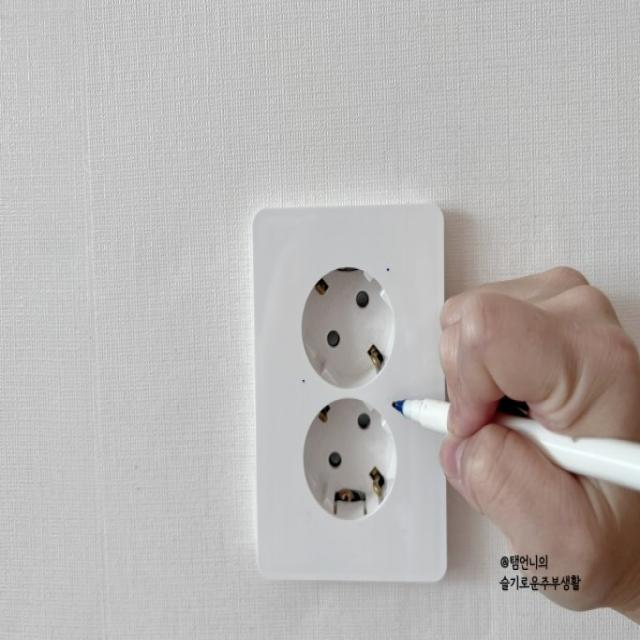typeb: (243, 186, 482, 636)
